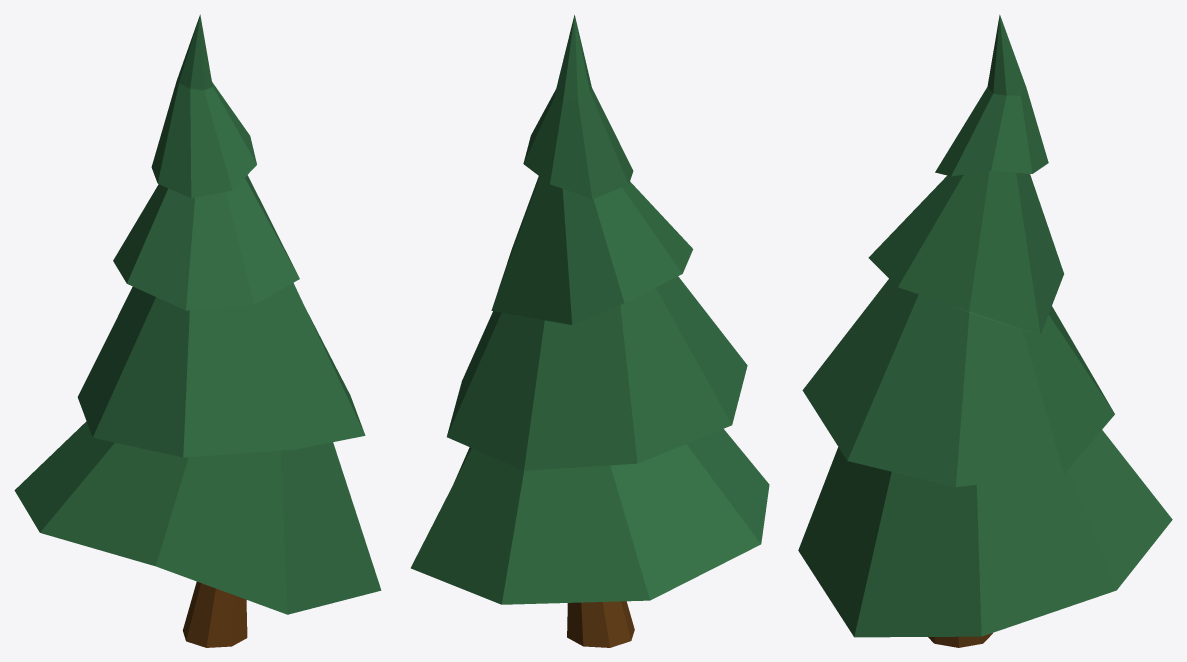
File: evergreen.fbx
The picture shows the model from 3 angles, left to right: view 1: azimuth 30°, elevation 25°; view 2: azimuth 150°, elevation 25°; view 3: azimuth 270°, elevation 25°; orthographic projection. The views are drawn at different scales.
Parts seen in each view (by area): view 1: Evergreen; view 2: Evergreen; view 3: Evergreen.
Boxes of the visible parts, bbox=[...] form: Evergreen: bbox=[14, 14, 381, 647]; Evergreen: bbox=[411, 15, 769, 647]; Evergreen: bbox=[798, 14, 1172, 647].
Bounding box in the file's own units: 0.5124 × 0.9448 × 0.5156.
